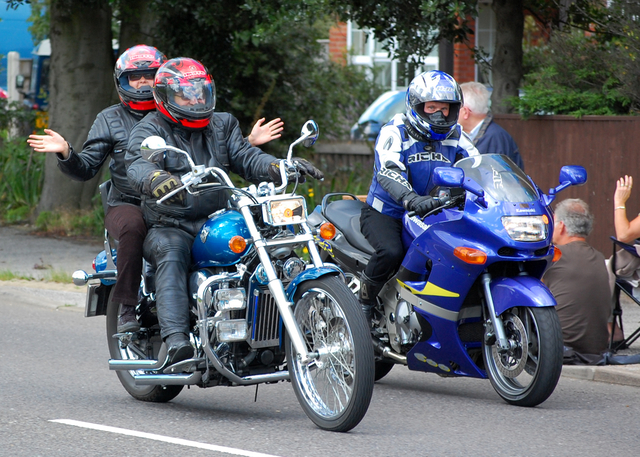helmet: (405, 75, 461, 136), (111, 47, 166, 109), (156, 69, 217, 123)
